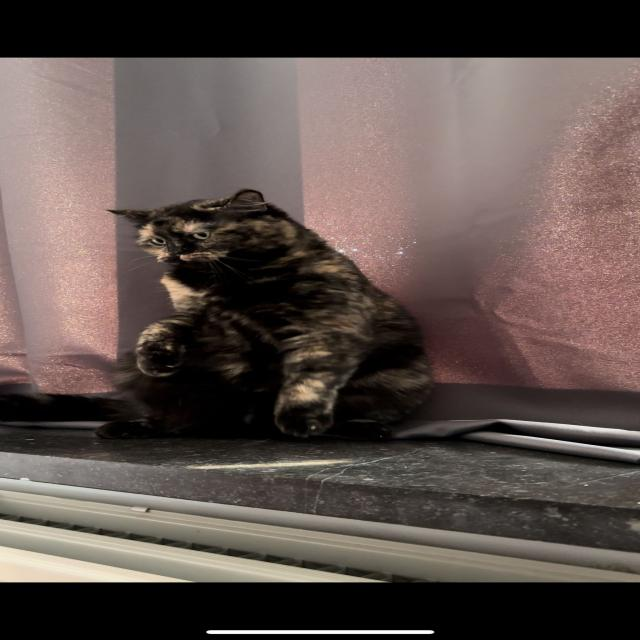authorized: (2, 188, 436, 440)
